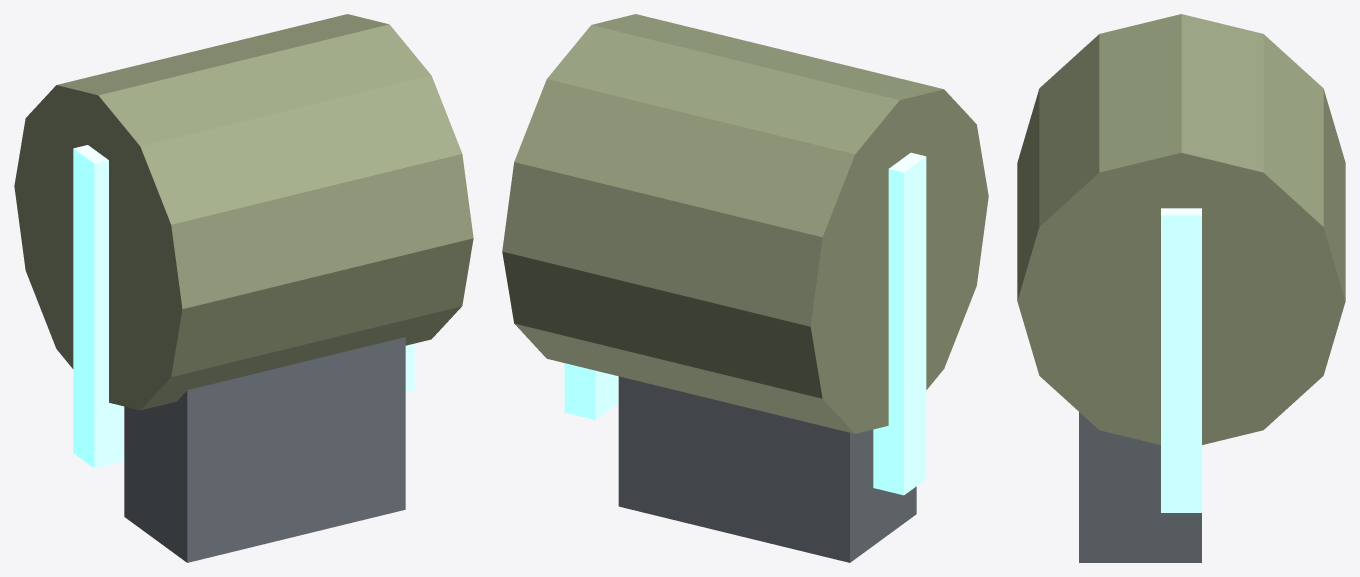
Rendered from mech-hangar-and-battle-frames-shield-generator-pack-496154ad__26919.glb.
3 renders of one model, left to right at view 1: azimuth 30°, elevation 25°; view 2: azimuth 150°, elevation 25°; view 3: azimuth 270°, elevation 25°, orthographic. The views are drawn at different scales.
Visible parts, largest first — view 1: shield-generator-pack; view 2: shield-generator-pack; view 3: shield-generator-pack.
Boxes of the visible parts, left/top/right/bottom form: shield-generator-pack: left=14, top=14, right=473, bottom=562; shield-generator-pack: left=502, top=14, right=988, bottom=562; shield-generator-pack: left=1017, top=14, right=1345, bottom=562.
Size of the model in its own units: 0.88 by 1.15 by 0.8.
